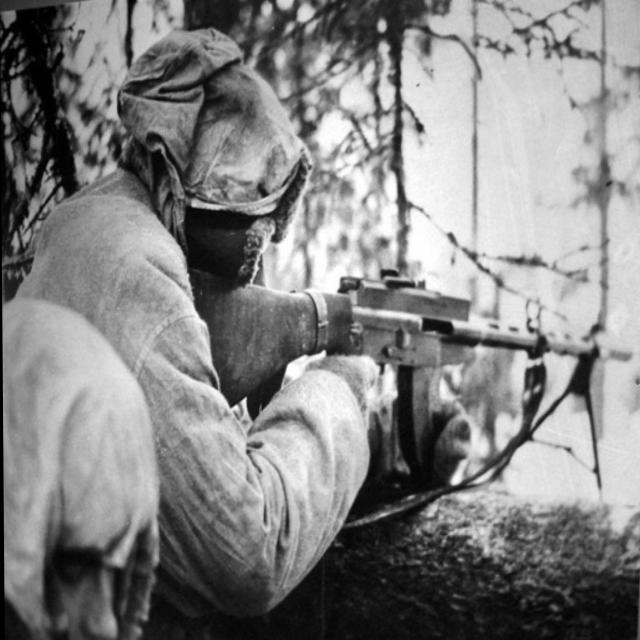other: (71, 29, 320, 471)
